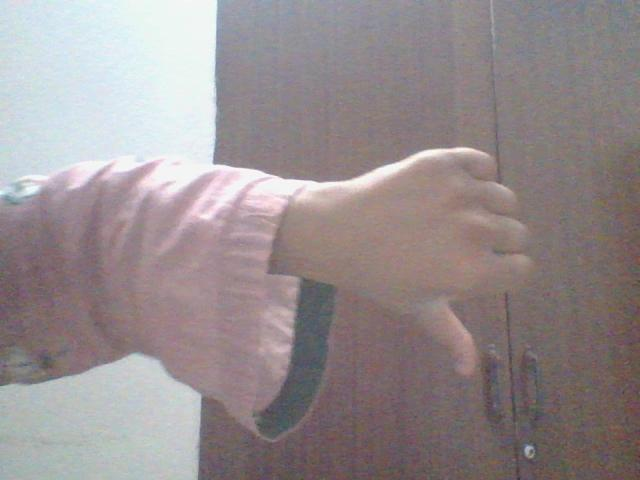thumbs-down: (361, 143, 537, 391)
